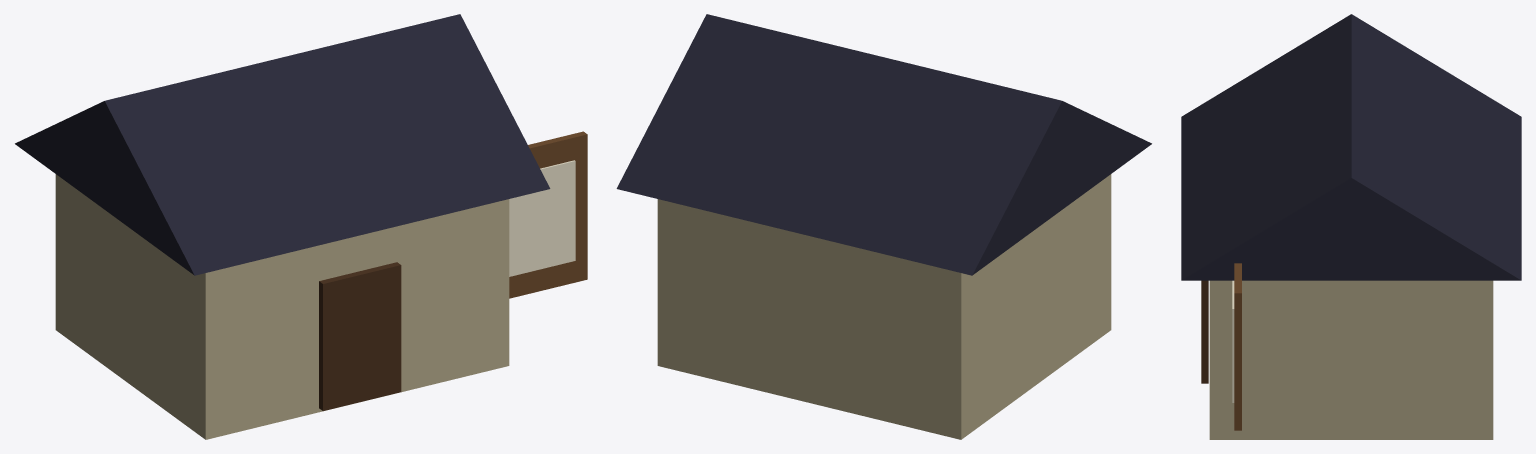
File: city_gatekeeper_hut.glb
The picture shows the model from 3 angles, left to right: view 1: azimuth 30°, elevation 25°; view 2: azimuth 150°, elevation 25°; view 3: azimuth 270°, elevation 25°; orthographic projection. The views are drawn at different scales.
Visible parts, largest first — view 1: city_gatekeeper_hut; view 2: city_gatekeeper_hut; view 3: city_gatekeeper_hut.
Part boxes in pixels (x1,y1,x2,y2): city_gatekeeper_hut: (15, 14, 587, 439); city_gatekeeper_hut: (616, 14, 1151, 439); city_gatekeeper_hut: (1181, 14, 1521, 439).
Bounding box in the file's own units: 4.85 × 3.2 × 3.6.
